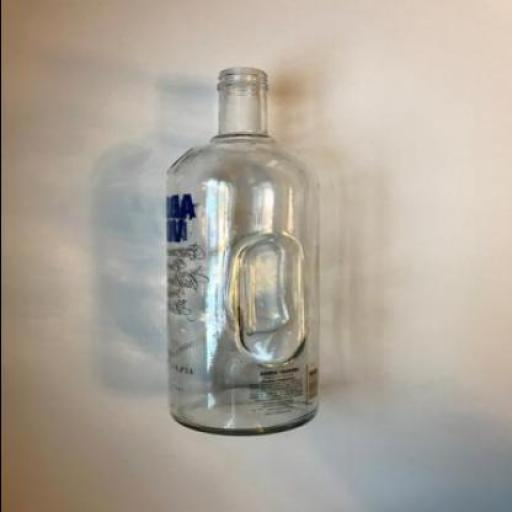glass: (165, 68, 320, 435)
